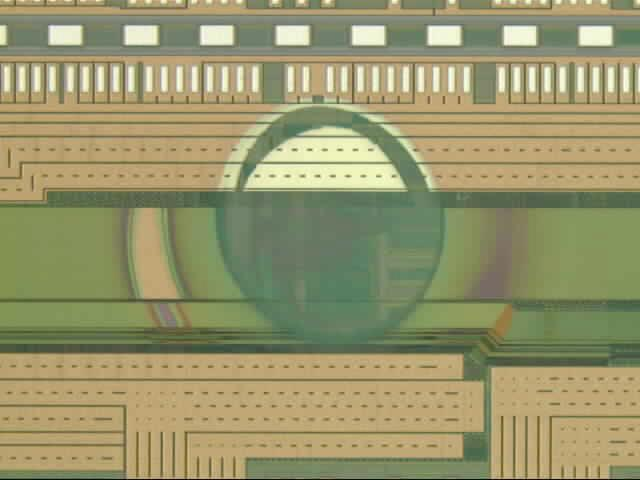COATING BAD: (119, 96, 548, 367)
